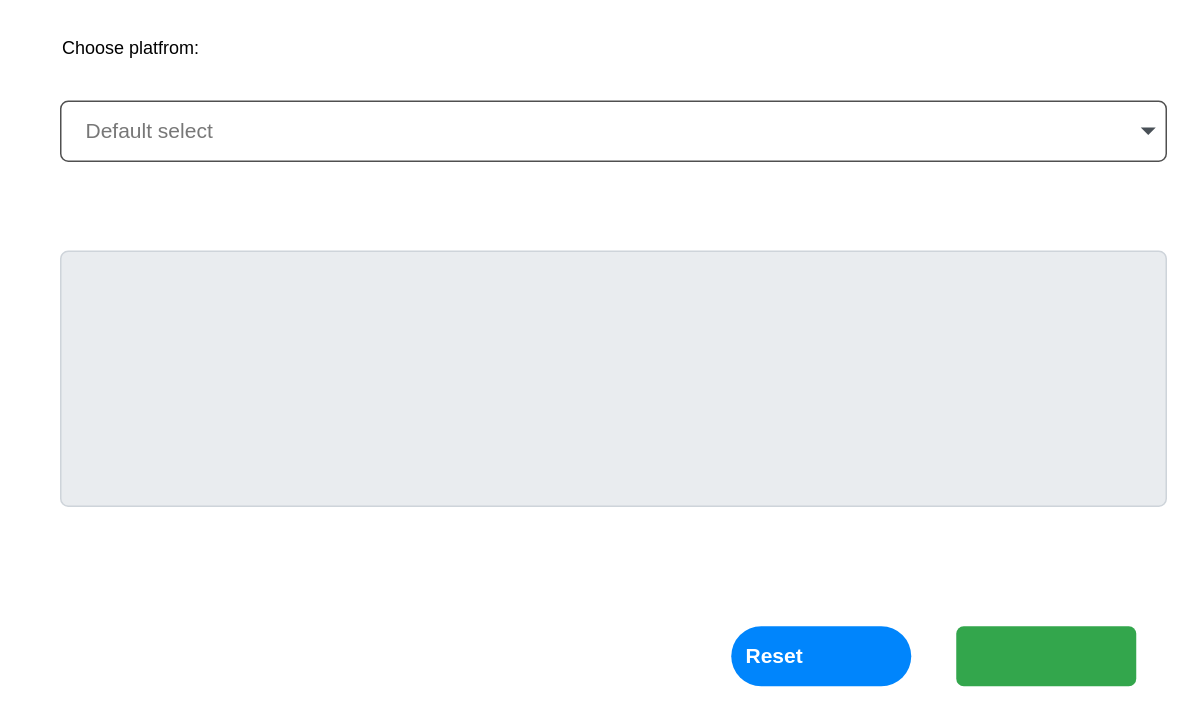
This 1193x711 diagram has some shape labels left out. The shapes that lost their labels are listed below. From the top down, each one's centre as x and y in pixels, then its label:
At [612,378]: "Input url".
At [1046,656]: "Submit".
